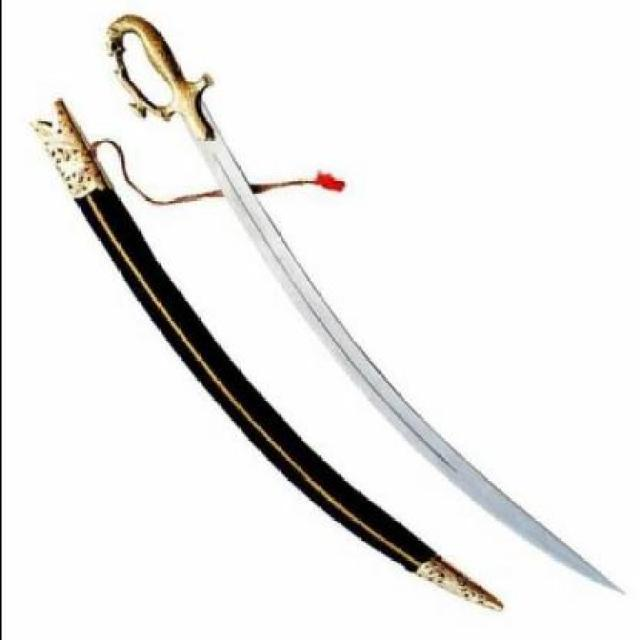weapon: (28, 94, 505, 611)
